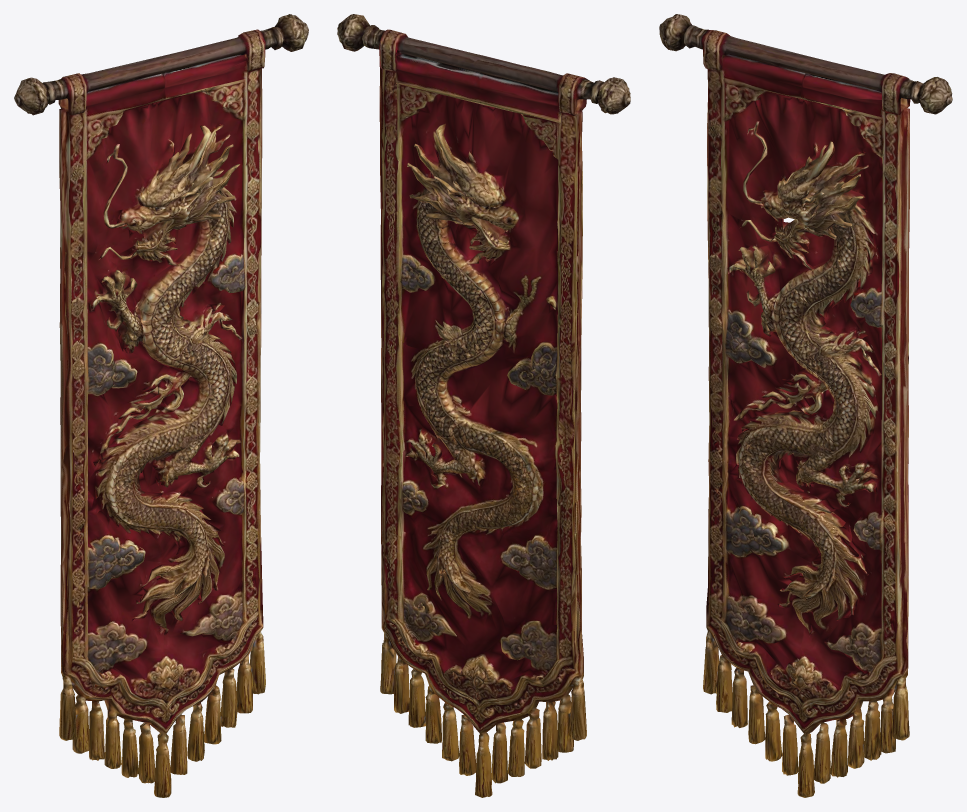
File: banner.glb
3 renders of one model, left to right at view 1: azimuth 30°, elevation 25°; view 2: azimuth 150°, elevation 25°; view 3: azimuth 330°, elevation 25°, orthographic.
Visible parts, largest first — view 1: tripo_node_38fa8fa7-c3f9-4a5e-977b-6a96d805c4f5; view 2: tripo_node_38fa8fa7-c3f9-4a5e-977b-6a96d805c4f5; view 3: tripo_node_38fa8fa7-c3f9-4a5e-977b-6a96d805c4f5.
Part boxes in pixels (left/top/right/bottom): tripo_node_38fa8fa7-c3f9-4a5e-977b-6a96d805c4f5: left=14, top=14, right=308, bottom=797; tripo_node_38fa8fa7-c3f9-4a5e-977b-6a96d805c4f5: left=337, top=14, right=630, bottom=797; tripo_node_38fa8fa7-c3f9-4a5e-977b-6a96d805c4f5: left=659, top=14, right=952, bottom=797.
Size of the model in its own units: 0.4005 by 0.9783 by 0.0805.
Materials: 1 (1 with a texture image).
